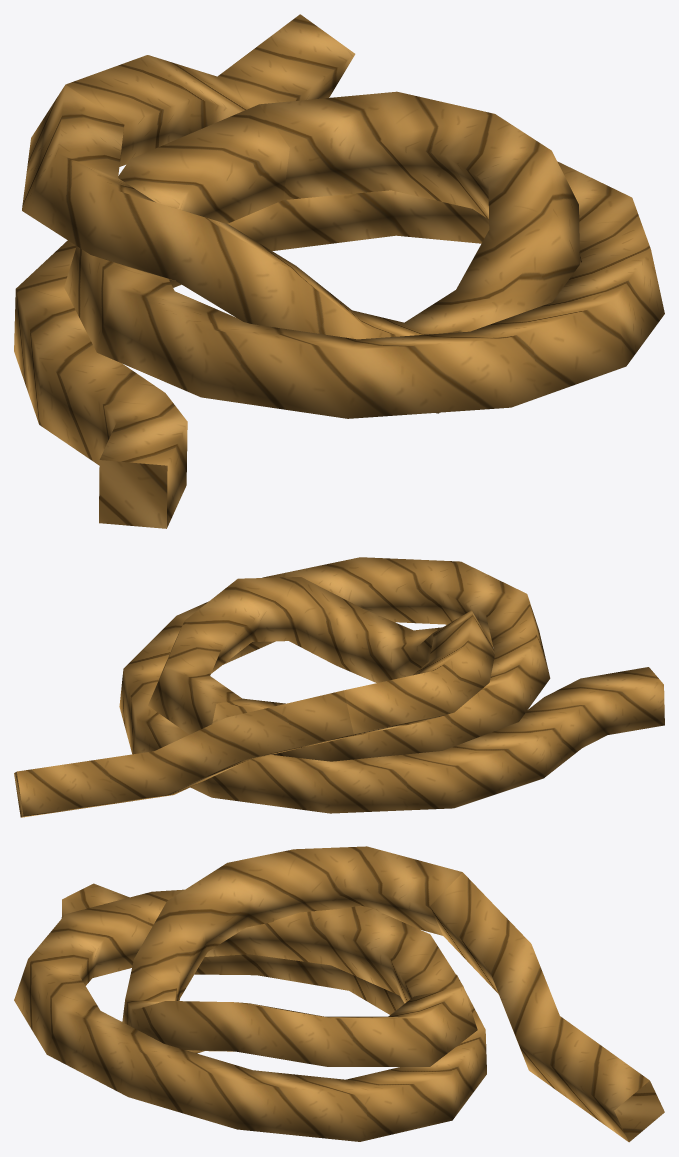
File: resource _rope.fbx
The picture shows the model from 3 angles, top to bottom: view 1: azimuth 30°, elevation 25°; view 2: azimuth 150°, elevation 25°; view 3: azimuth 270°, elevation 25°; orthographic projection. The views are drawn at different scales.
Parts seen in each view (by area): view 1: resource _rope; view 2: resource _rope; view 3: resource _rope.
Boxes of the visible parts, bbox=[...] form: resource _rope: bbox=[14, 14, 664, 528]; resource _rope: bbox=[14, 557, 664, 817]; resource _rope: bbox=[14, 846, 664, 1142].
Size of the model in its own units: 69.04 by 20.39 by 85.24.
